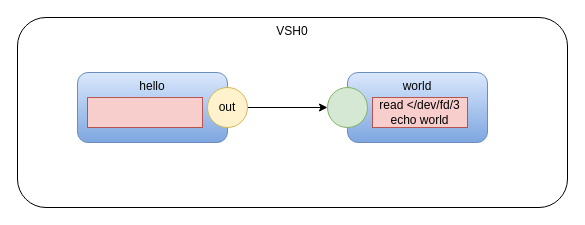
Image size: 585x225. Some labels were removed from this diagram. The centre of each missing label's shape, as x and y in pixels:
"echo hello echo done >/dev/fd/3" goes at (144,112).
"in" goes at (347,107).
